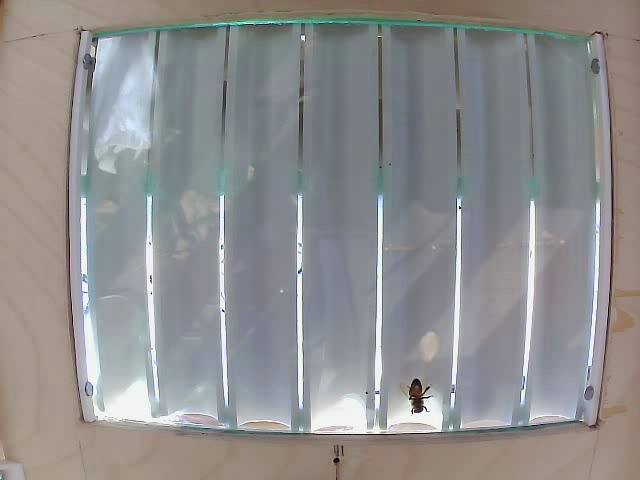bee: (398, 378, 440, 430)
